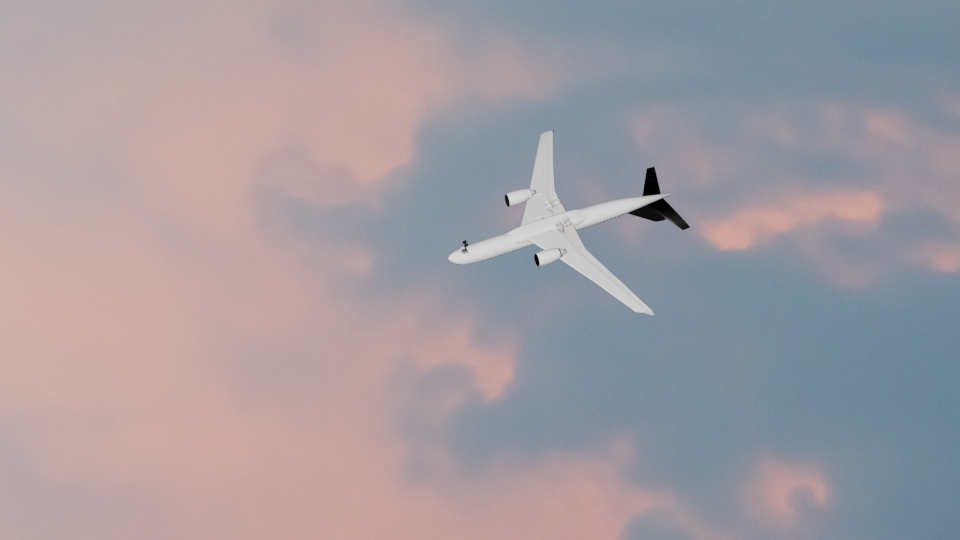plane: (447, 127, 689, 321)
